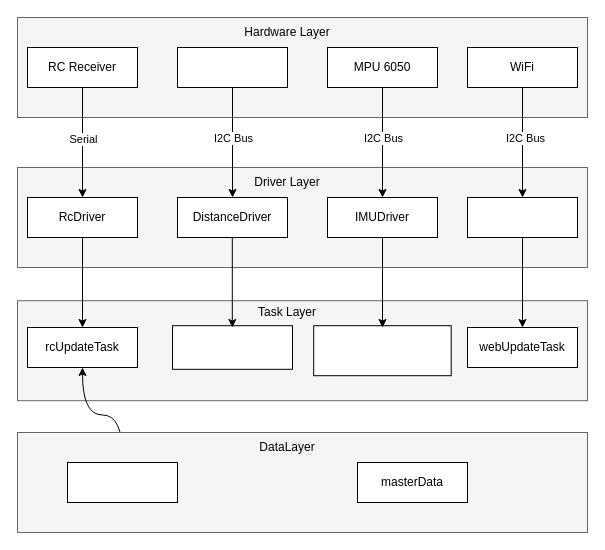
Some shapes in this 605 by 550 pixel diagram are drawn without their labels. The shapes that lost their labels are listed below. From the top down, each one's box as (x1, y1, x2, y2) in pixels, then its label:
(176, 46, 288, 88): x5 VL53L0X
(466, 196, 578, 238): AsyncWebServer
(172, 325, 292, 369): distanceMonitorTask
(313, 325, 451, 376): orientationMonitorTask
(66, 462, 178, 502): rcData
